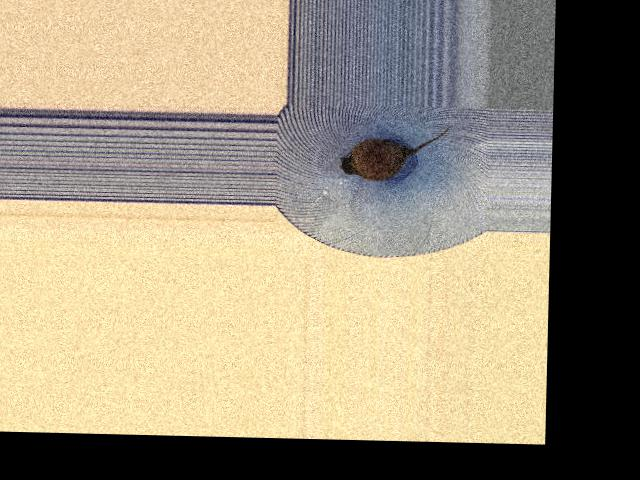beet: (339, 123, 448, 181)
